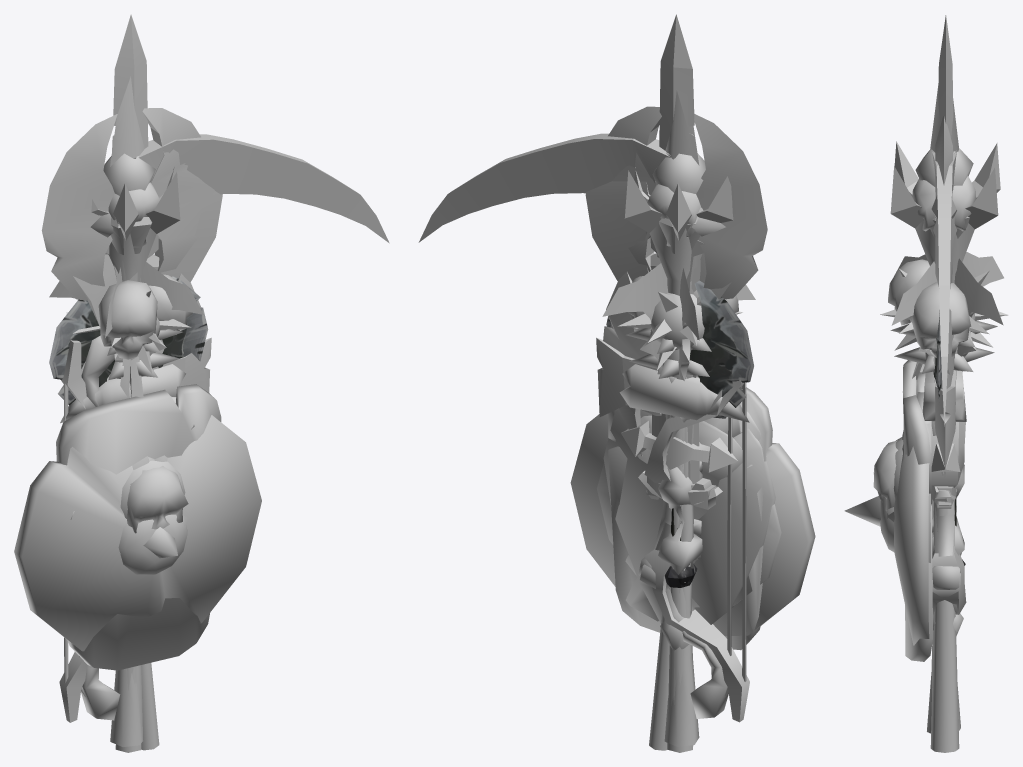
File: WEAPONS.FBX
The picture shows the model from 3 angles, left to right: view 1: azimuth 30°, elevation 25°; view 2: azimuth 150°, elevation 25°; view 3: azimuth 270°, elevation 25°; orthographic projection.
Parts seen in each view (by area): view 1: W_shield_02_mesh, W_shield_04_mesh, W_dbl_axe_01, W_scythe_01, W_staff_02, W_staff_01, W_axe_04, W_shield_01_mesh, W_bow_01, W_dbl_sword_01, W_bow_02, W_spear_02 (+8 smaller); view 2: W_shield_01_mesh, W_dbl_axe_01, W_scythe_01, W_shield_02_mesh, W_bow_02, W_staff_02, W_dbl_sword_01, W_bow_01, W_axe_04, W_shield_04_mesh, W_staff_01, W_spear_02 (+9 smaller); view 3: W_staff_02, W_scythe_01, W_shield_02_mesh, W_shield_04_mesh, W_mace_04, W_dbl_axe_01, W_bow_02, W_axe_03, W_dbl_sword_01, W_axe_01, W_shield_01_mesh, W_staff_01 (+7 smaller).
Boxes of the visible parts, bbox=[...] form: W_shield_02_mesh: bbox=[14, 415, 261, 651]; W_shield_04_mesh: bbox=[56, 384, 221, 670]; W_dbl_axe_01: bbox=[41, 108, 214, 300]; W_scythe_01: bbox=[138, 134, 389, 750]; W_staff_02: bbox=[91, 166, 192, 752]; W_staff_01: bbox=[103, 153, 164, 746]; W_axe_04: bbox=[49, 276, 208, 405]; W_shield_01_mesh: bbox=[70, 396, 194, 533]; W_bow_01: bbox=[79, 335, 120, 720]; W_dbl_sword_01: bbox=[108, 14, 148, 377]; W_bow_02: bbox=[59, 340, 87, 722]; W_spear_02: bbox=[90, 191, 222, 686]; W_shield_01_mesh: bbox=[603, 409, 775, 624]; W_dbl_axe_01: bbox=[608, 106, 767, 650]; W_scythe_01: bbox=[418, 133, 670, 750]; W_shield_02_mesh: bbox=[570, 411, 815, 636]; W_bow_02: bbox=[644, 378, 749, 722]; W_staff_02: bbox=[624, 166, 738, 752]; W_dbl_sword_01: bbox=[621, 14, 737, 472]; W_bow_01: bbox=[658, 389, 732, 718]; W_axe_04: bbox=[606, 280, 753, 587]; W_shield_04_mesh: bbox=[608, 387, 772, 650]; W_staff_01: bbox=[652, 153, 705, 746]; W_spear_02: bbox=[585, 181, 725, 704]; W_staff_02: bbox=[888, 141, 1000, 379]; W_scythe_01: bbox=[930, 152, 959, 752]; W_shield_02_mesh: bbox=[880, 379, 929, 645]; W_shield_04_mesh: bbox=[893, 360, 933, 661]; W_mace_04: bbox=[891, 252, 1003, 511]; W_dbl_axe_01: bbox=[912, 116, 975, 635]; W_bow_02: bbox=[931, 422, 966, 614]; W_axe_03: bbox=[932, 309, 959, 589]; W_dbl_sword_01: bbox=[931, 15, 960, 471]; W_axe_01: bbox=[932, 370, 960, 598]; W_shield_01_mesh: bbox=[873, 372, 932, 562]; W_staff_01: bbox=[915, 148, 973, 733].
Bounding box in the file's own units: 5.75 × 10.55 × 2.17.
